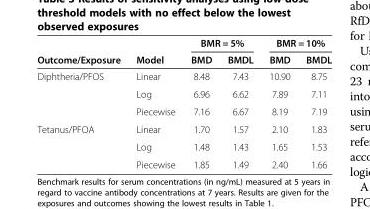table: (36, 36, 331, 169)
table column: (36, 36, 127, 169), (127, 36, 182, 169), (219, 36, 260, 169), (182, 36, 219, 169), (260, 36, 297, 169), (297, 36, 331, 169)
table column header: (36, 36, 331, 67)
table row: (36, 84, 331, 102), (36, 102, 331, 120), (36, 137, 331, 155), (36, 50, 331, 67), (36, 67, 331, 84), (36, 120, 331, 137), (36, 36, 331, 50), (36, 155, 331, 169)
table spanning cell: (36, 67, 127, 120), (36, 120, 127, 169), (36, 36, 127, 67), (127, 36, 182, 67), (182, 36, 260, 50), (260, 36, 331, 50)
